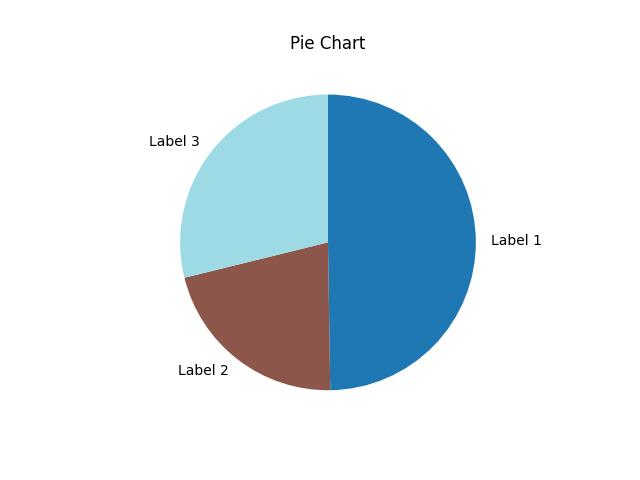sector: (329, 93, 475, 390), (177, 93, 331, 280), (184, 239, 331, 392)
